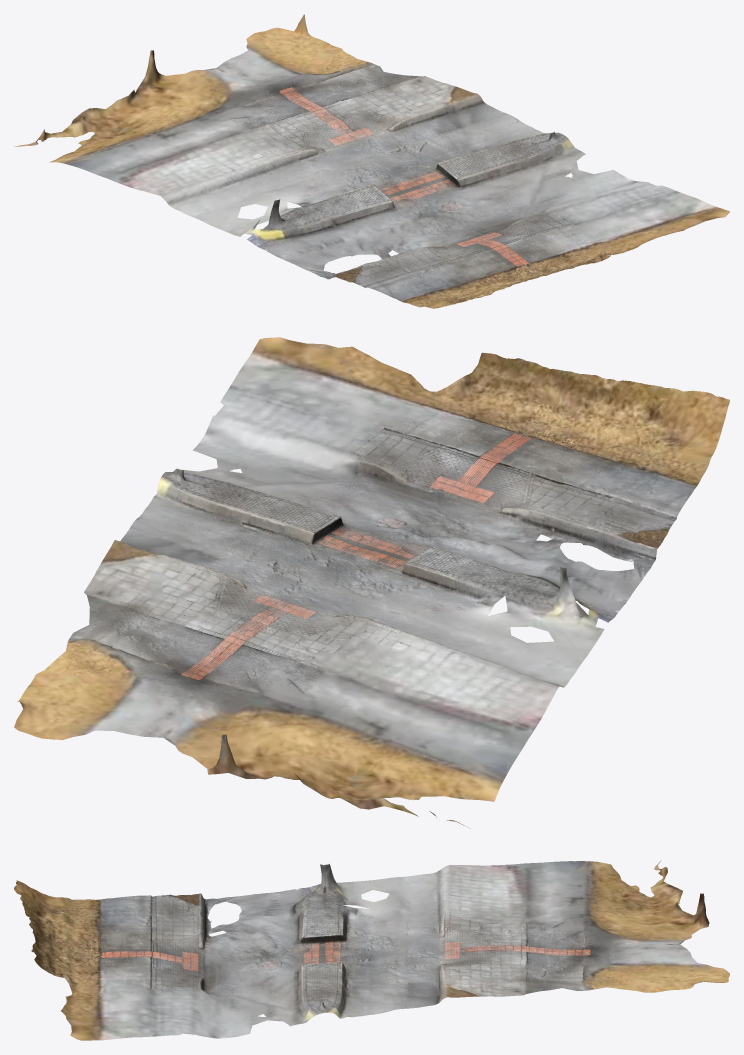
Rendered from HjaKronunniSeeingViewNyttTest-transformed.glb.
3 renders of one model, top to bottom at view 1: azimuth 30°, elevation 25°; view 2: azimuth 150°, elevation 25°; view 3: azimuth 270°, elevation 25°, orthographic. The views are drawn at different scales.
Parts seen in each view (by area): view 1: Mesh_0; view 2: Mesh_0; view 3: Mesh_0.
Boxes of the visible parts, x1=… form: Mesh_0: x1=14, y1=14, x2=729, y2=308; Mesh_0: x1=14, y1=337, x2=729, y2=828; Mesh_0: x1=14, y1=860, x2=729, y2=1040.
Size of the model in its own units: 24.42 by 2.38 by 33.82.
Materials: 1 (1 with a texture image).
